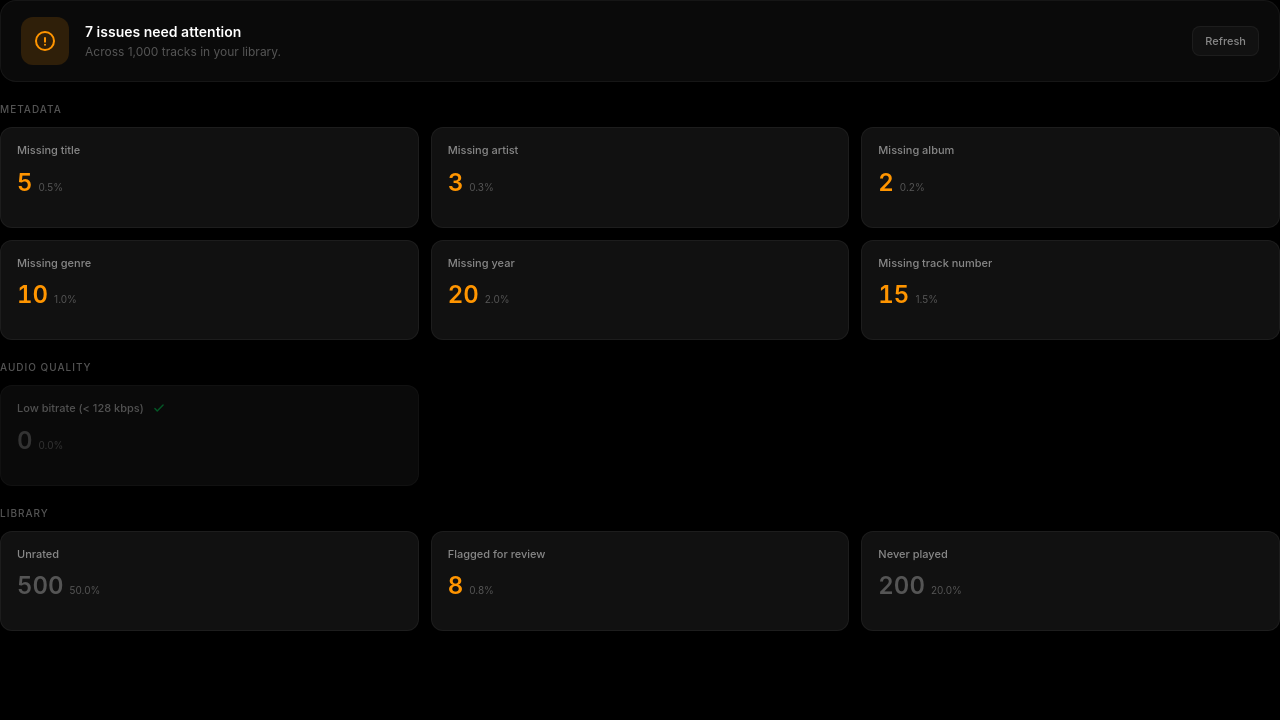
Test: drill-down › closes modal on backdrop click
This screenshot has width=1280, height=720.
Click the text "Missing title" at (49, 150), box [17,142,80,158]
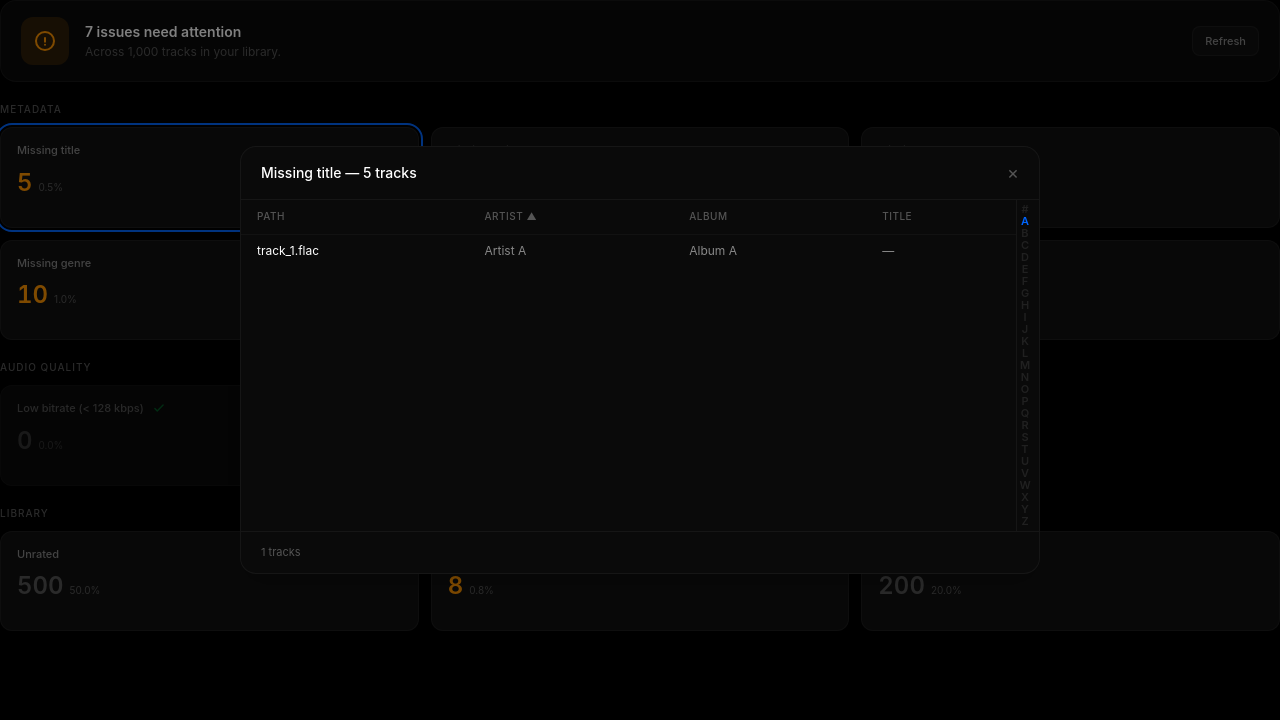
Now the heading "Missing title — 5 tracks" is shown, box [261,163,417,183]
Click the element with test id "modal-backdrop" at (77, 360), box [0,0,1279,719]
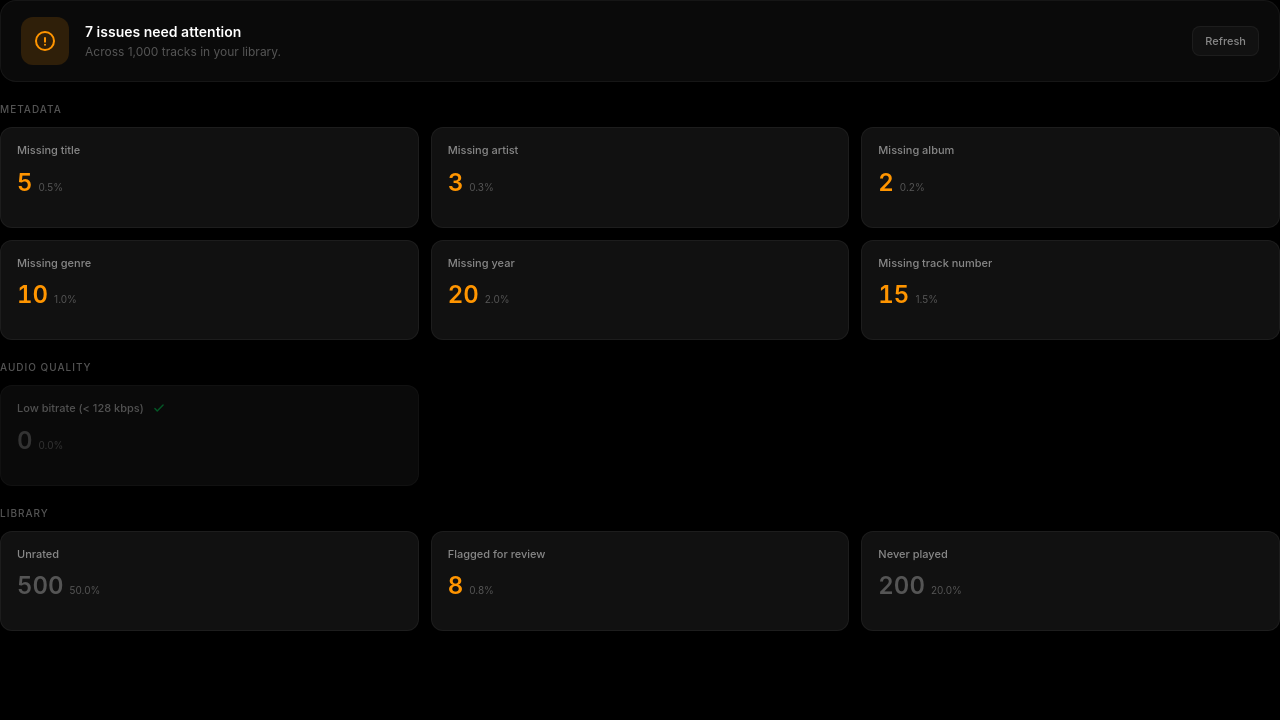
Now the heading "Missing title — 5 tracks" is gone
